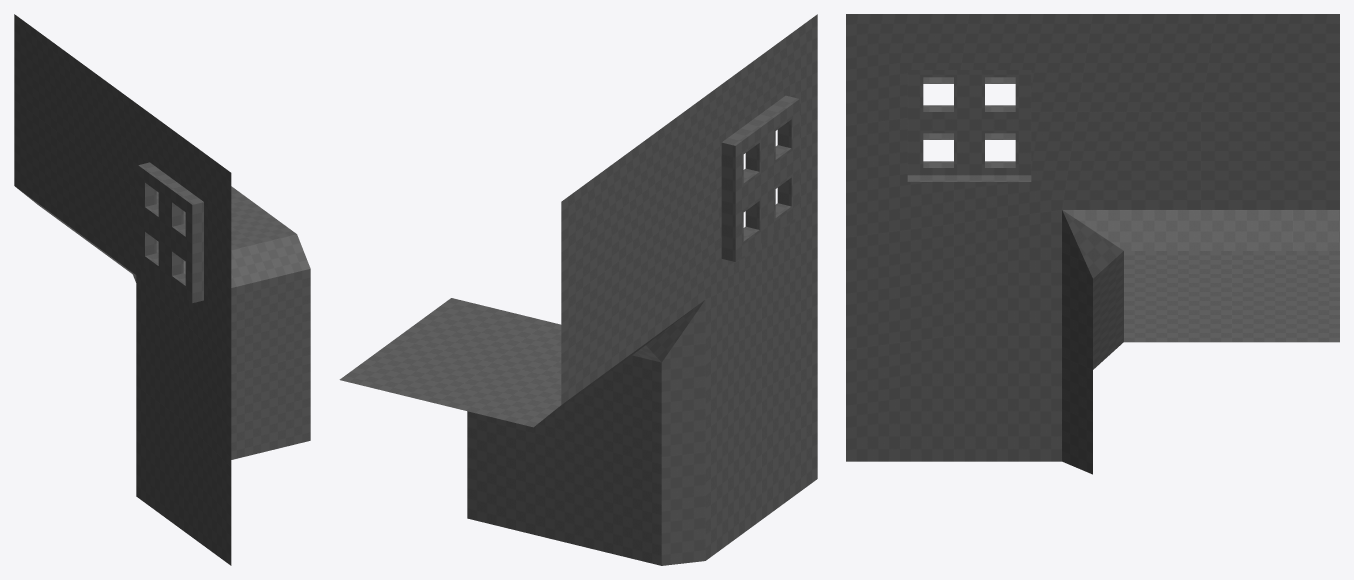
3 renders of one model, left to right at view 1: azimuth 30°, elevation 25°; view 2: azimuth 150°, elevation 25°; view 3: azimuth 270°, elevation 25°, orthographic. The views are drawn at different scales.
Parts seen in each view (by area): view 1: CubeDownBackLeftV1; view 2: CubeDownBackLeftV1; view 3: CubeDownBackLeftV1.
Boxes of the visible parts, left/top/right/bottom form: CubeDownBackLeftV1: left=14, top=14, right=310, bottom=565; CubeDownBackLeftV1: left=339, top=14, right=817, bottom=565; CubeDownBackLeftV1: left=846, top=14, right=1339, bottom=474.
Size of the model in its own units: 2.12 by 4 by 4.
1 material, 1 textured.
